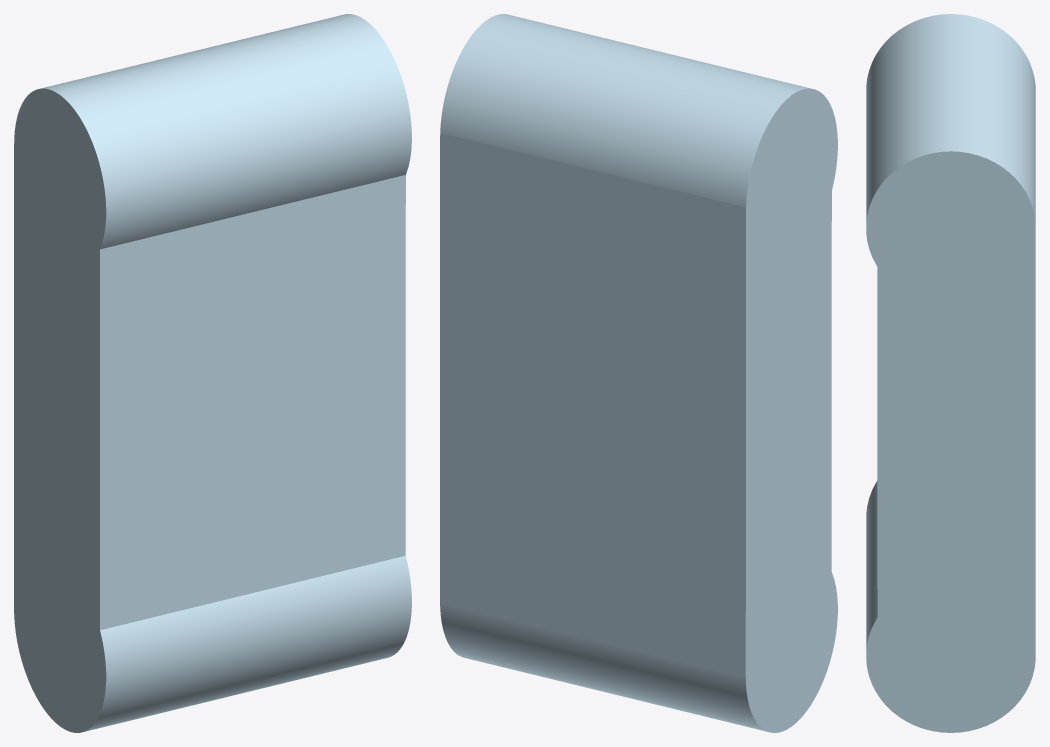
File: rod-mid.gltf
3 views of the same model, side by side, from view 1: azimuth 30°, elevation 25°; view 2: azimuth 150°, elevation 25°; view 3: azimuth 270°, elevation 25° (orthographic). The views are drawn at different scales.
Parts seen in each view (by area): view 1: Part 1; view 2: Part 1; view 3: Part 1.
Boxes of the visible parts, x1=… form: Part 1: x1=14, y1=14, x2=411, y2=732; Part 1: x1=440, y1=14, x2=837, y2=732; Part 1: x1=866, y1=14, x2=1035, y2=732.
Bounding box in the file's own units: 0.00413 × 0.00815 × 0.00216.
